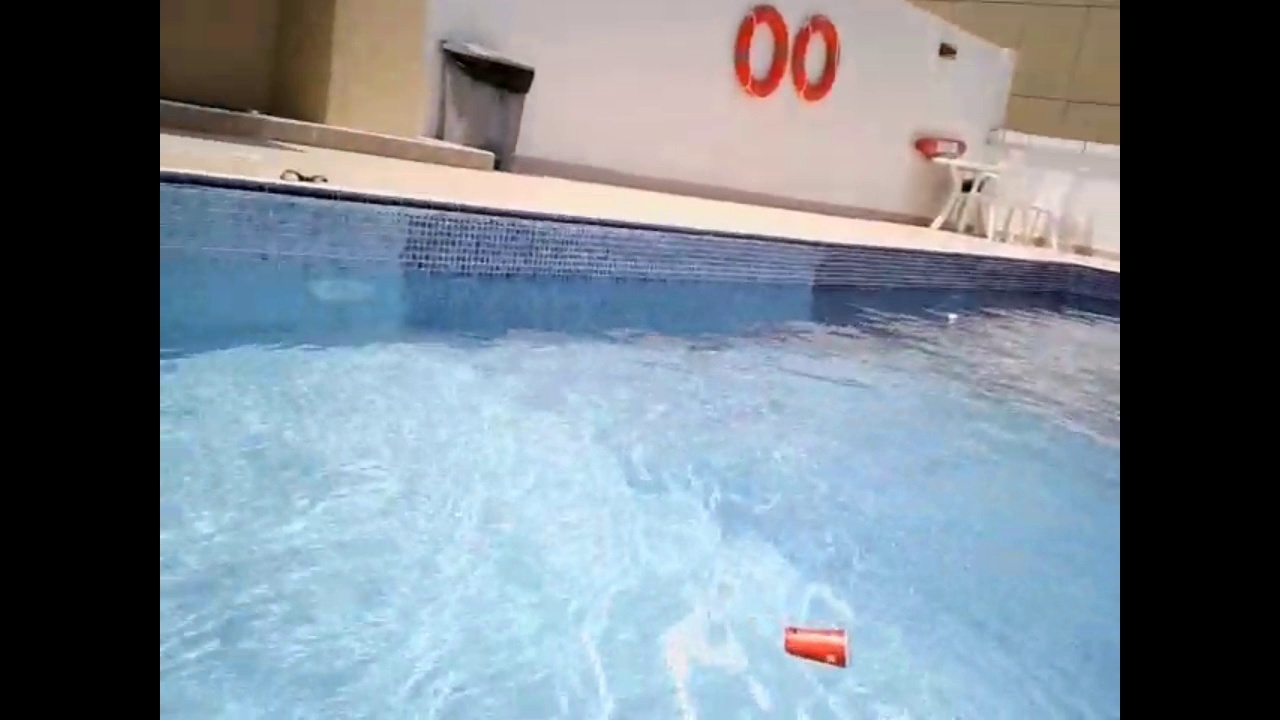debris: (774, 609, 854, 685), (939, 305, 963, 330)
